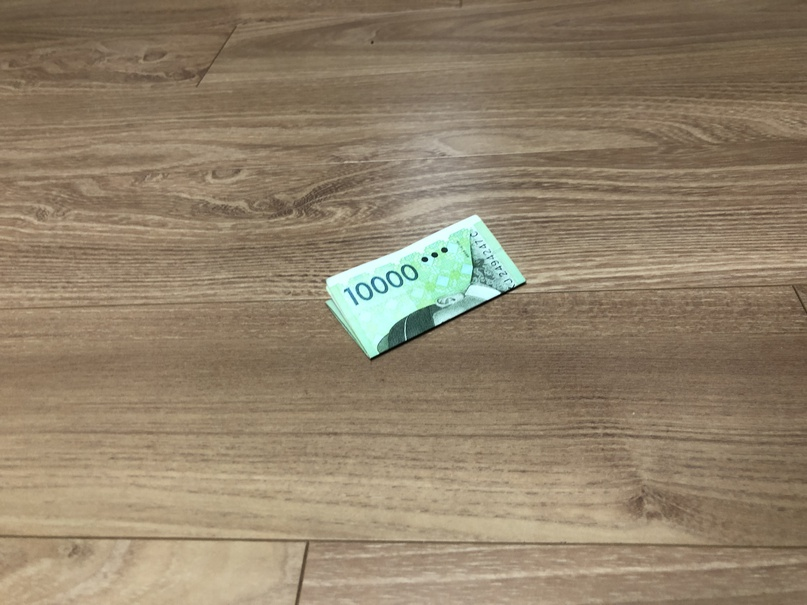10000won: (324, 214, 527, 360)
